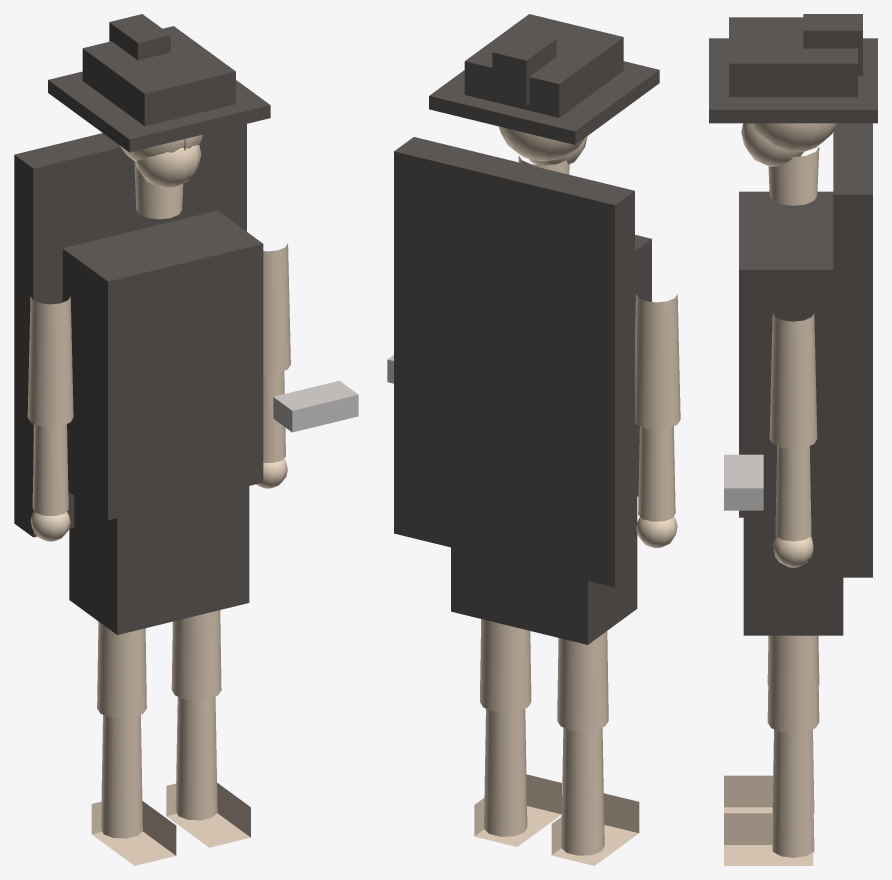
The model's file is body.glb.
3 views of the same model, side by side, from view 1: azimuth 30°, elevation 25°; view 2: azimuth 150°, elevation 25°; view 3: azimuth 270°, elevation 25° (orthographic). The views are drawn at different scales.
Visible parts, largest first — view 1: Cloth, Skin, Metal; view 2: Cloth, Skin; view 3: Cloth, Skin, Metal.
Boxes of the visible parts, <box> form: Cloth: <box>14,14,270,634</box>; Skin: <box>27,134,290,865</box>; Metal: <box>273,380,358,432</box>; Cloth: <box>394,14,659,644</box>; Skin: <box>474,126,680,865</box>; Cloth: <box>709,14,877,635</box>; Skin: <box>724,123,837,865</box>; Metal: <box>724,454,763,510</box>.
Size of the model in its own units: 0.71 by 1.81 by 0.34.
